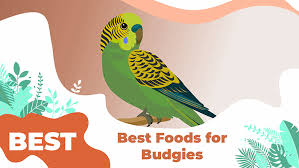budgie: (96, 11, 216, 128)
